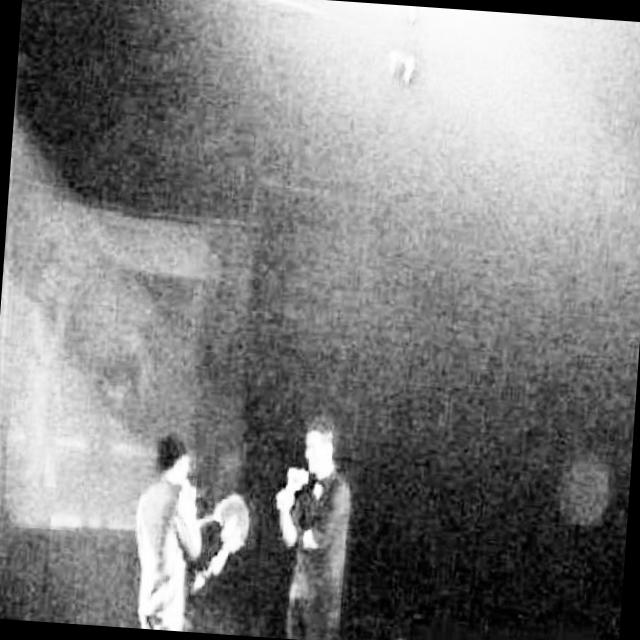Person: (266, 411, 365, 640), (130, 428, 210, 632)
